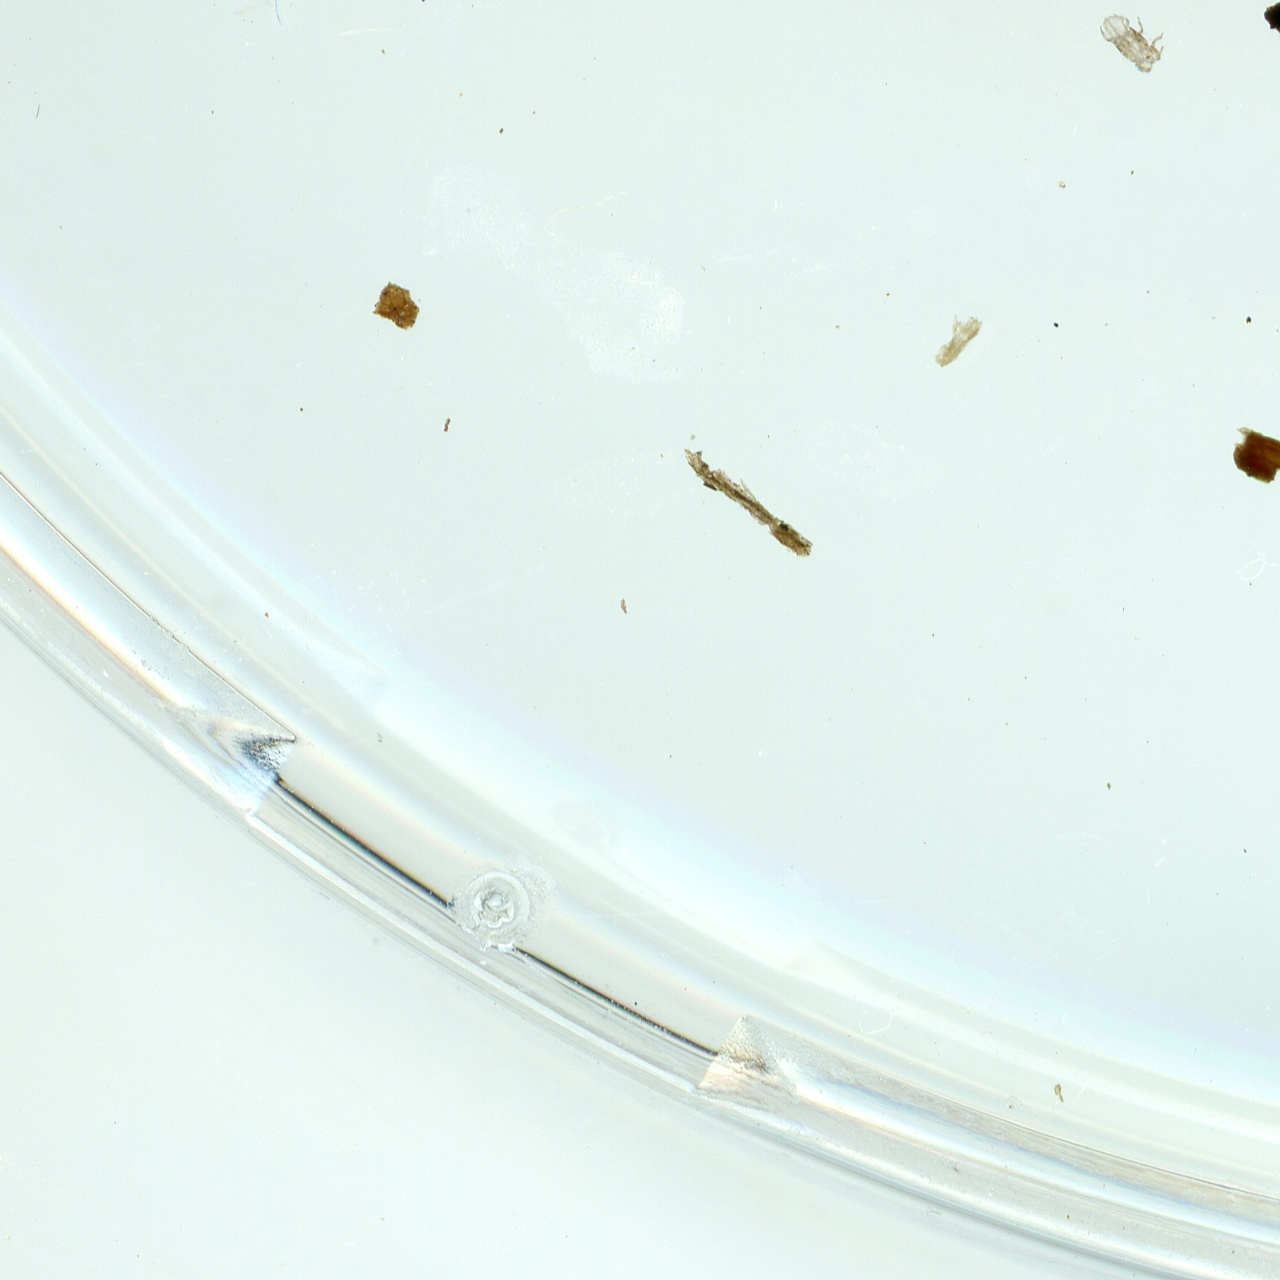arthropod: (1095, 7, 1173, 79)
